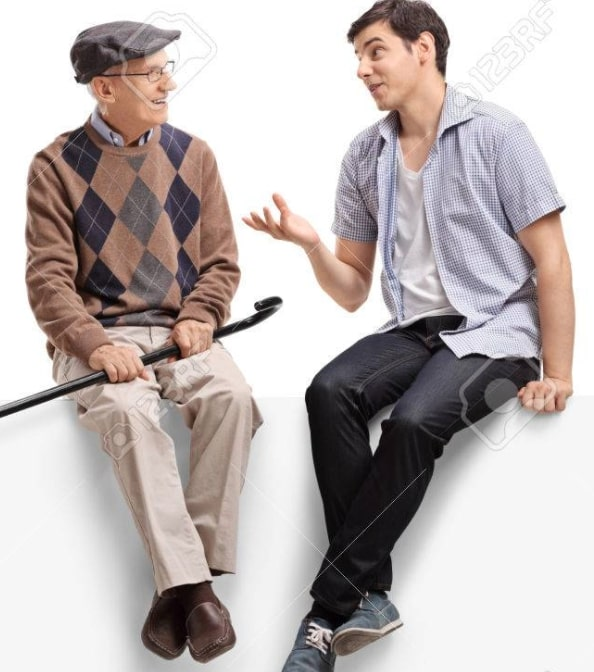Bad: (25, 1, 574, 672)
